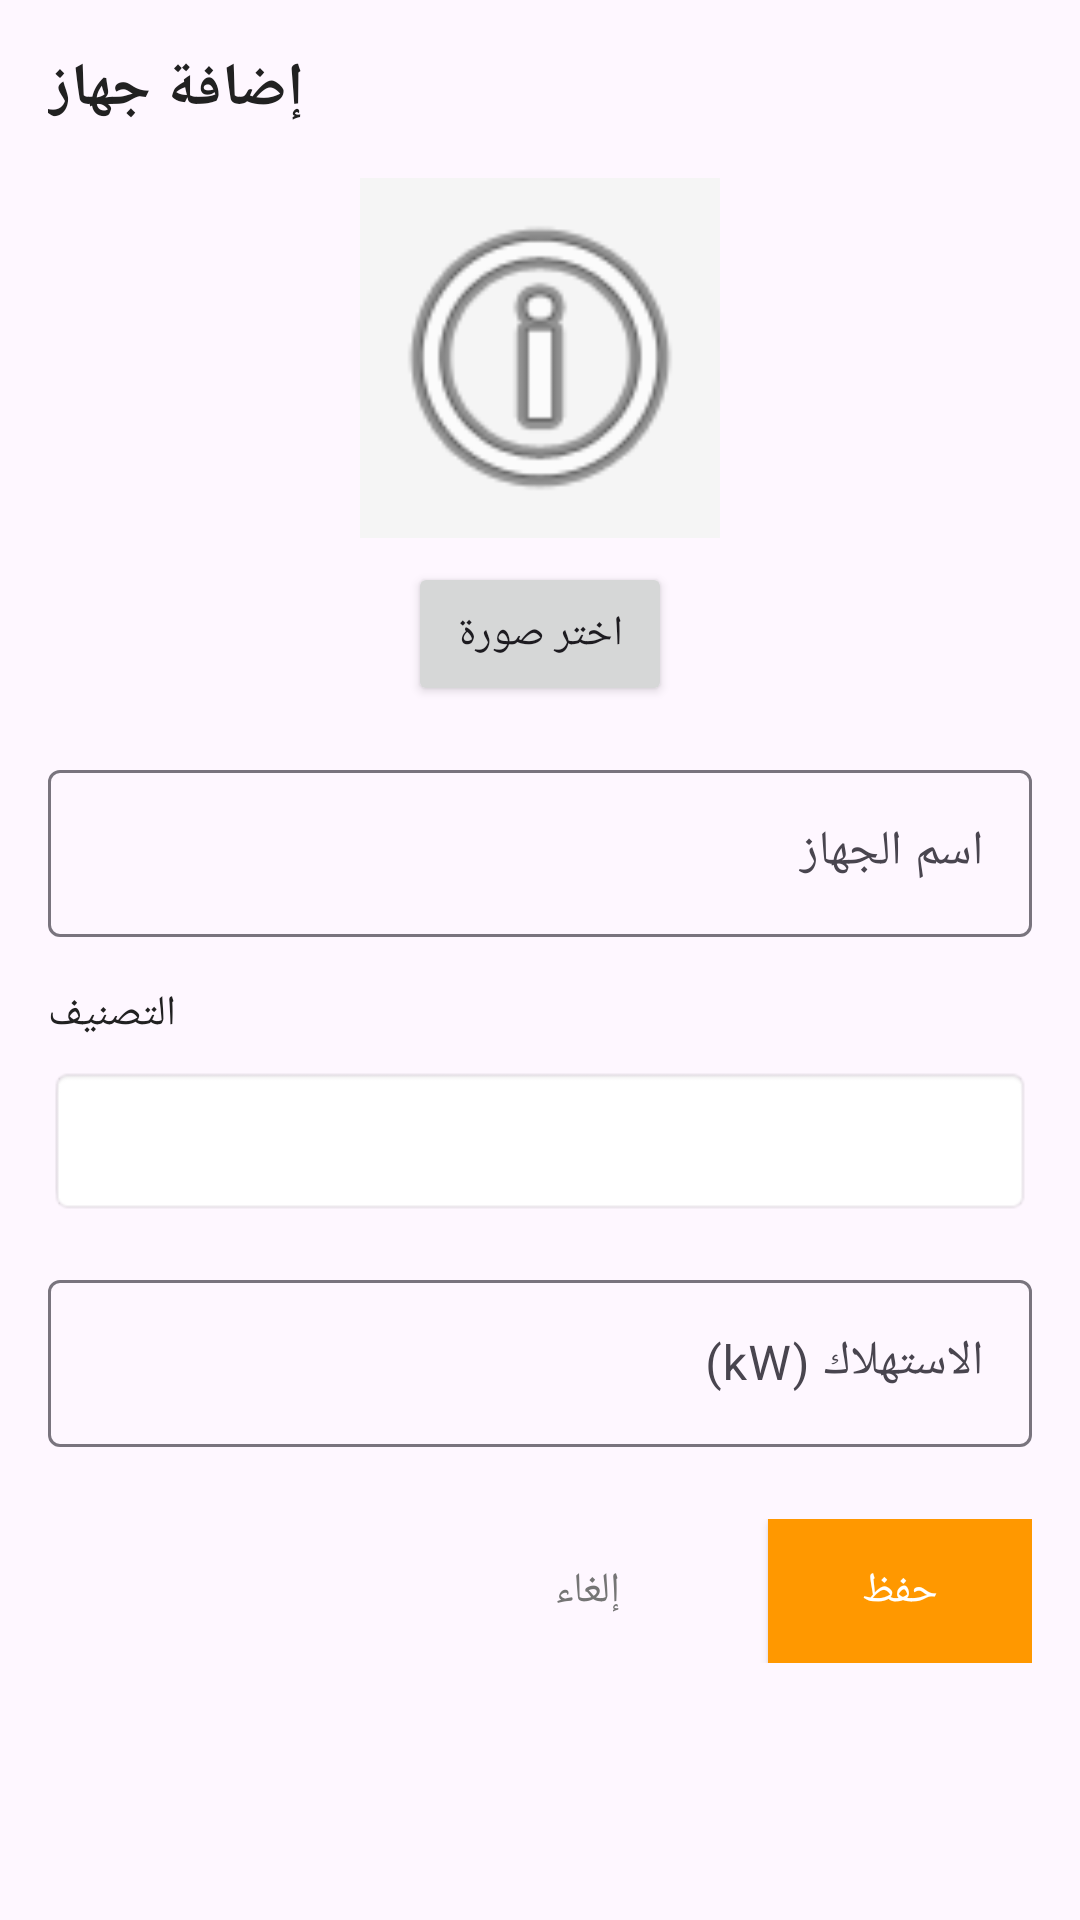

Icon click points for this 1080w x 1920h phone screenshot, format point (x, y):
info details: point (540, 358)
